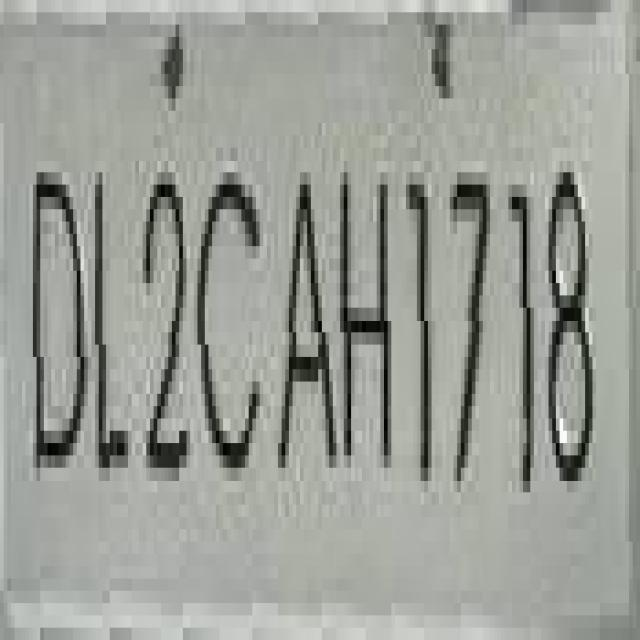license_plate: (0, 12, 603, 615)
